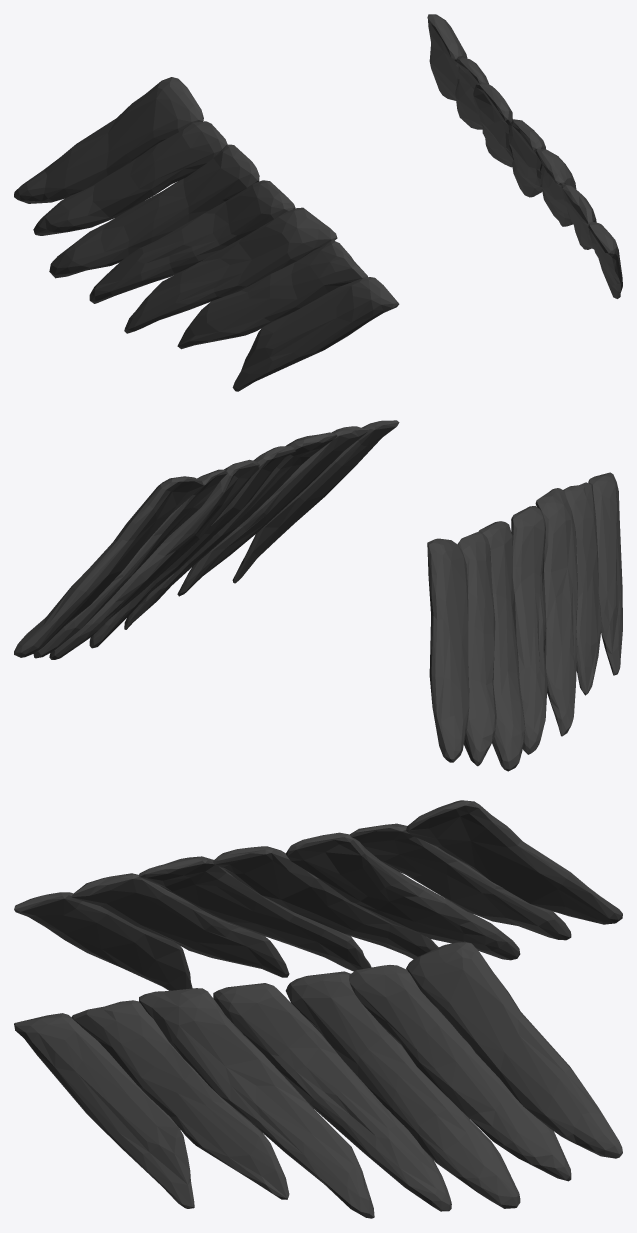
The model's file is m_serratus_dorsalis_cranialis.glb.
3 views of the same model, one above another, from view 1: azimuth 30°, elevation 25°; view 2: azimuth 150°, elevation 25°; view 3: azimuth 270°, elevation 25° (orthographic). The views are drawn at different scales.
Parts seen in each view (by area): view 1: m_serratus_dorsalis_cranialis; view 2: m_serratus_dorsalis_cranialis; view 3: m_serratus_dorsalis_cranialis.
Boxes of the visible parts, box(x1,y1,x2,y2) form: m_serratus_dorsalis_cranialis: box(14, 14, 622, 391); m_serratus_dorsalis_cranialis: box(14, 420, 622, 771); m_serratus_dorsalis_cranialis: box(14, 800, 622, 1218).
Bounding box in the file's own units: 0.00543 × 0.00232 × 0.00549.
1 material, 1 textured.
